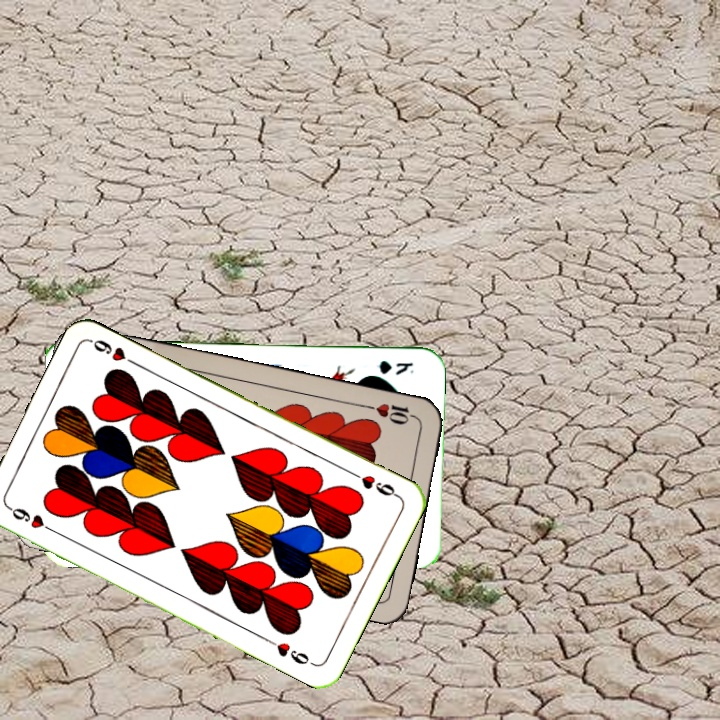GK: (375, 357, 415, 378)
H10: (362, 399, 420, 428)
H9: (347, 467, 402, 501), (4, 502, 59, 536)
